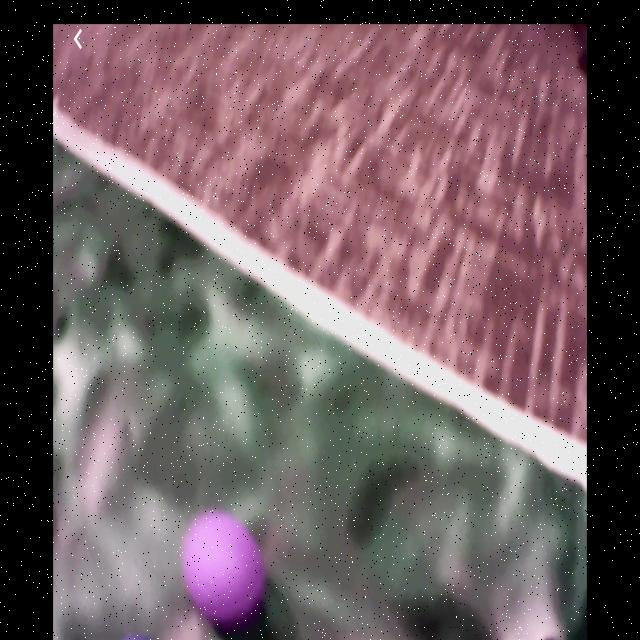ball: (186, 512, 266, 626)
